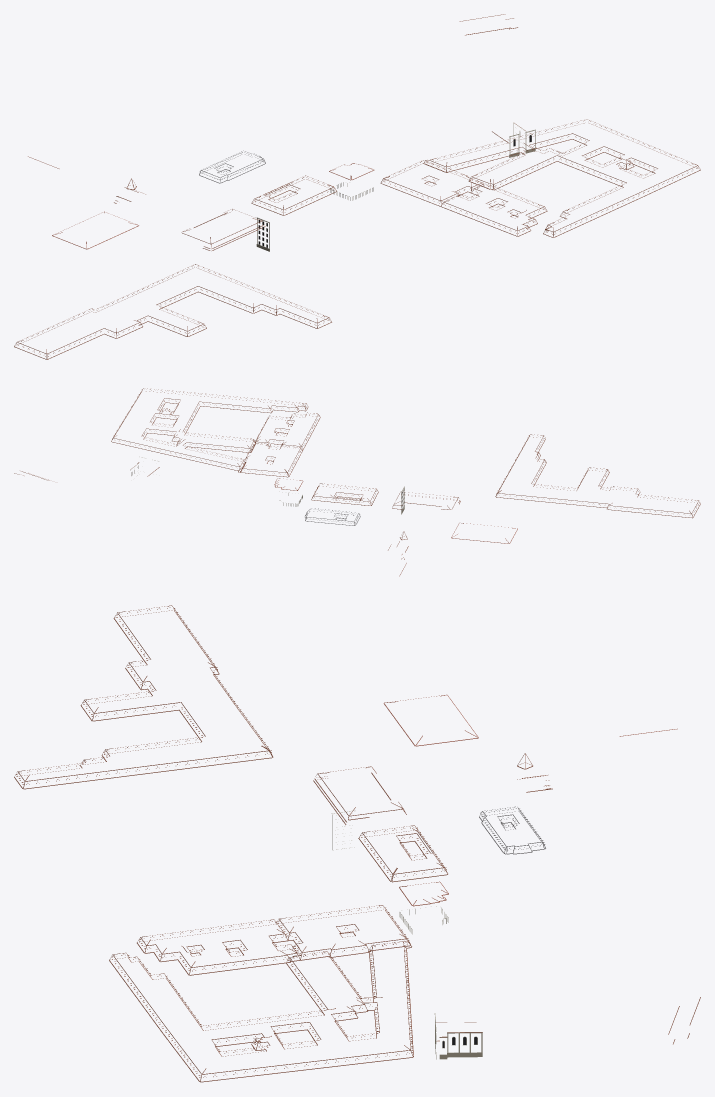
3 views of the same model, one above another, from view 1: azimuth 30°, elevation 25°; view 2: azimuth 150°, elevation 25°; view 3: azimuth 270°, elevation 25° (orthographic). The views are drawn at different scales.
Parts seen in each view (by area): view 1: detail; view 2: detail; view 3: detail.
Part boxes in pixels (x1=…): detail: x1=14, y1=14, x2=700, y2=359; detail: x1=14, y1=388, x2=700, y2=576; detail: x1=14, y1=605, x2=700, y2=1082.
Size of the model in its own units: 568 by 43.12 by 349.
